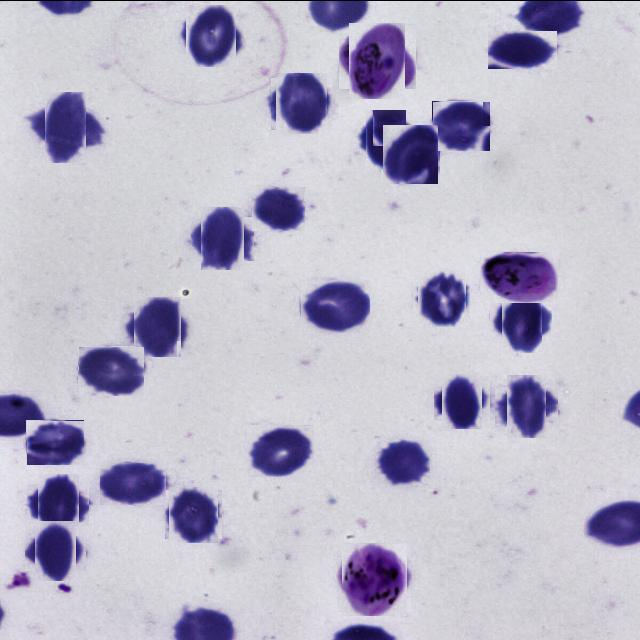difficult: (344, 27, 411, 93), (480, 250, 558, 302)
red blood cell: (300, 279, 370, 332), (247, 424, 314, 476), (382, 125, 439, 183), (78, 345, 144, 395), (183, 7, 240, 63), (273, 75, 330, 131), (38, 98, 94, 155), (130, 298, 184, 352), (432, 100, 490, 150), (196, 211, 249, 265), (167, 487, 220, 540), (415, 271, 468, 324), (100, 462, 166, 504), (32, 478, 84, 530), (496, 296, 548, 348), (500, 381, 552, 432), (488, 30, 557, 68), (26, 419, 84, 464), (30, 524, 81, 575), (362, 114, 412, 164), (376, 439, 430, 485), (252, 185, 306, 230), (438, 376, 486, 424)
schizont: (340, 544, 410, 613)
